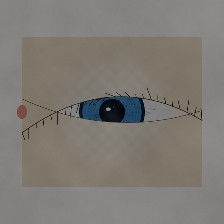pinguecula_lesion: (164, 89, 204, 121)
